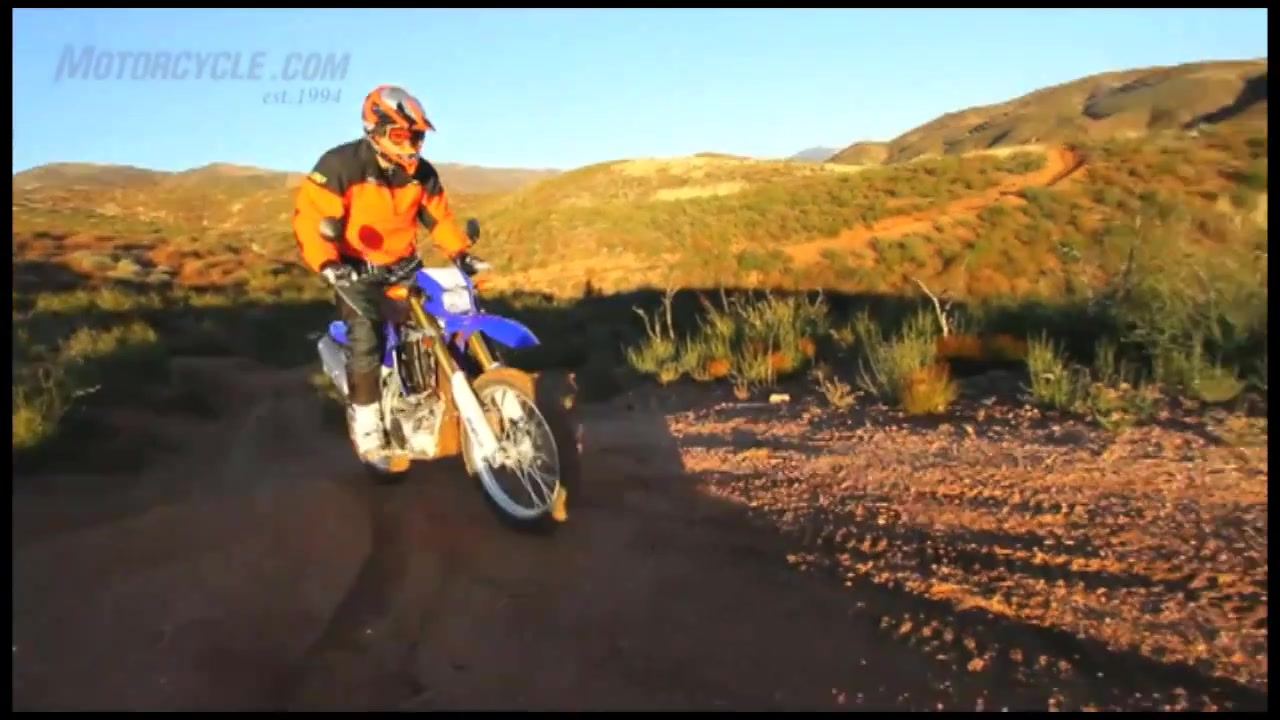motorbike: (314, 214, 583, 527)
